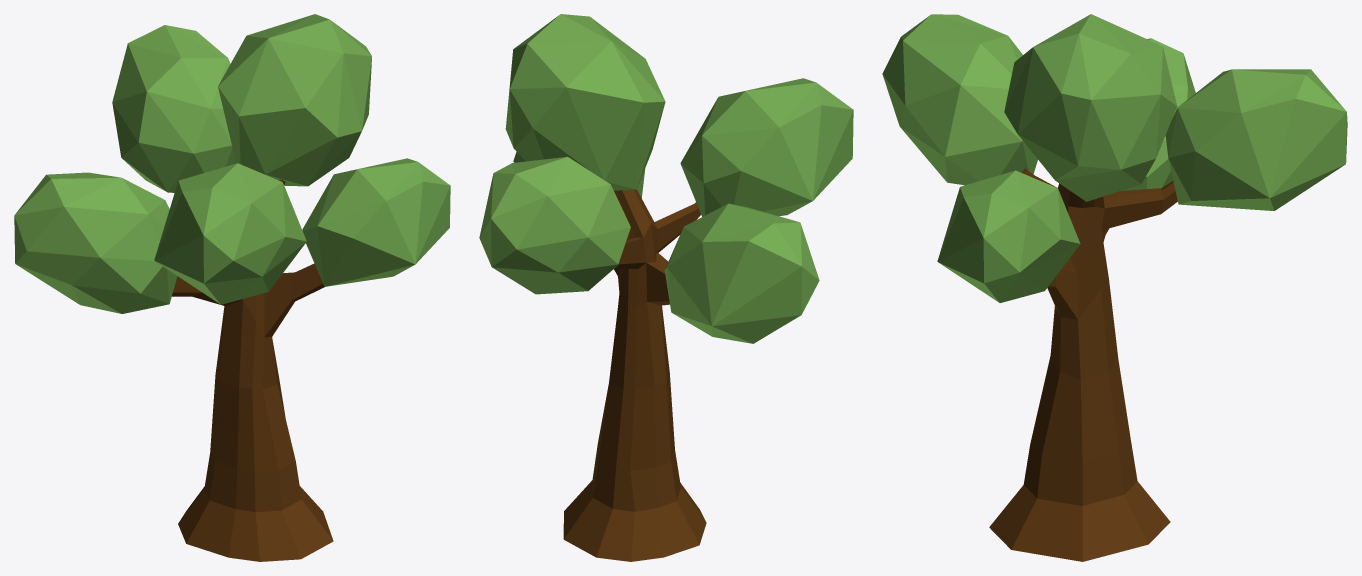
The model's file is Tree1.fbx.
3 views of the same model, side by side, from view 1: azimuth 30°, elevation 25°; view 2: azimuth 150°, elevation 25°; view 3: azimuth 270°, elevation 25° (orthographic). The views are drawn at different scales.
Parts seen in each view (by area): view 1: Tree1; view 2: Tree1; view 3: Tree1.
Part boxes in pixels (<box>): Tree1: <box>14,14,450,561</box>; Tree1: <box>479,14,853,561</box>; Tree1: <box>882,14,1347,561</box>.
Bounding box in the file's own units: 493 × 650 × 516.
